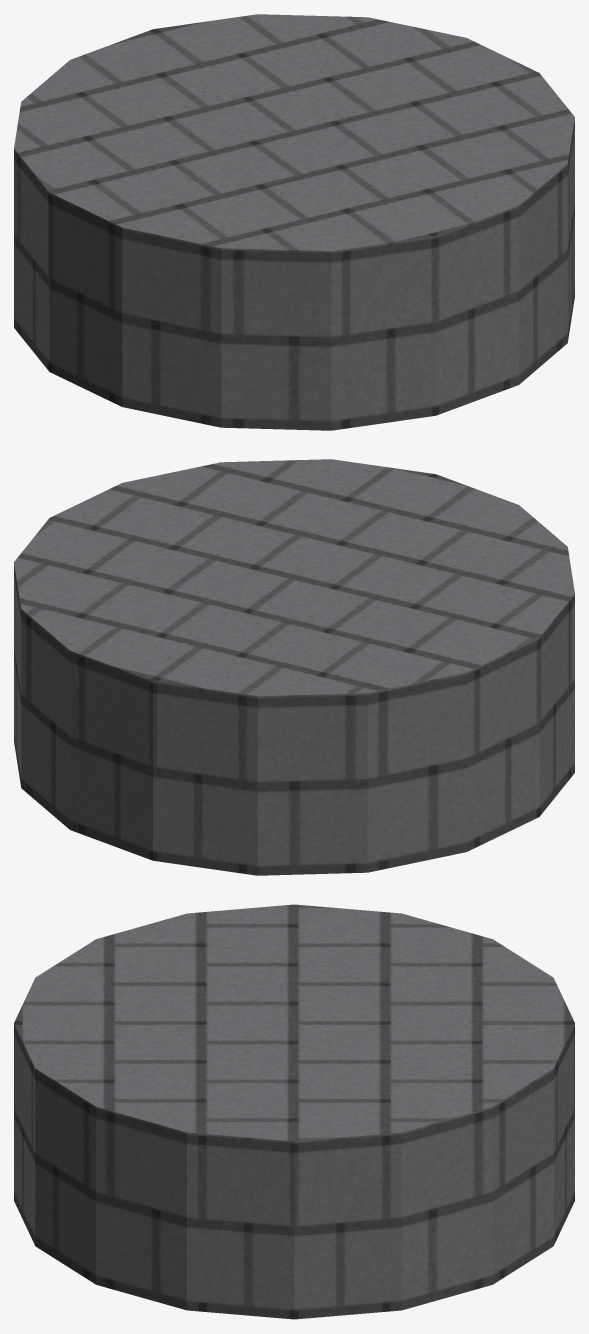
Rendered from fire_pit.glb.
The picture shows the model from 3 angles, top to bottom: view 1: azimuth 30°, elevation 25°; view 2: azimuth 150°, elevation 25°; view 3: azimuth 270°, elevation 25°; orthographic projection.
Visible parts, largest first — view 1: fire_pit-col; view 2: fire_pit-col; view 3: fire_pit-col.
Part boxes in pixels (left/top/right/bottom): fire_pit-col: left=14, top=14, right=574, bottom=430; fire_pit-col: left=14, top=459, right=574, bottom=875; fire_pit-col: left=14, top=904, right=574, bottom=1319.
Bounding box in the file's own units: 1 × 0.35 × 1.
Materials: 1 (1 with a texture image).
